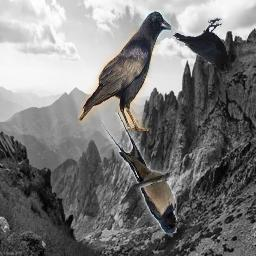Crow: (79, 11, 172, 132), (173, 17, 230, 73)
Swallow: (101, 113, 177, 234)
